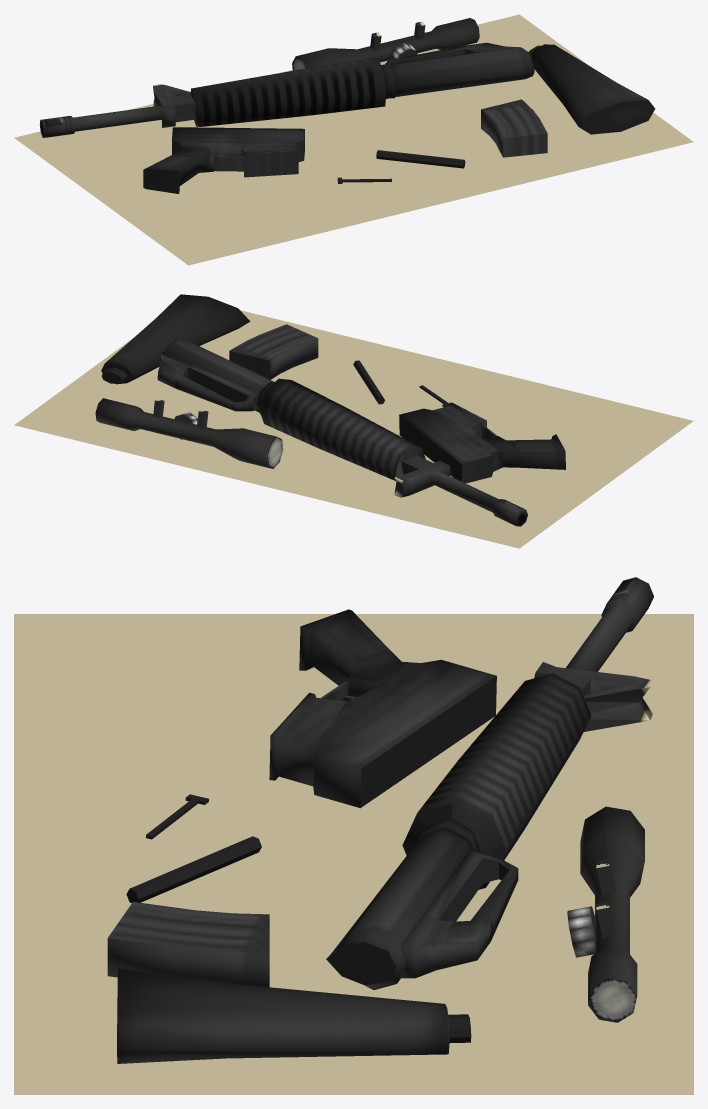
Rendered from DisassembledGunPartsLarge.fbx.
3 renders of one model, top to bottom at view 1: azimuth 30°, elevation 25°; view 2: azimuth 150°, elevation 25°; view 3: azimuth 270°, elevation 25°, orthographic. The views are drawn at different scales.
Visible parts, largest first — view 1: AssaultRifle; view 2: AssaultRifle; view 3: AssaultRifle.
Part boxes in pixels (x1,y1,x2,y2): AssaultRifle: (14, 14, 693, 265); AssaultRifle: (14, 294, 693, 548); AssaultRifle: (14, 577, 693, 1094).
Size of the model in its own units: 0.5288 by 0.0507 by 0.3161.
